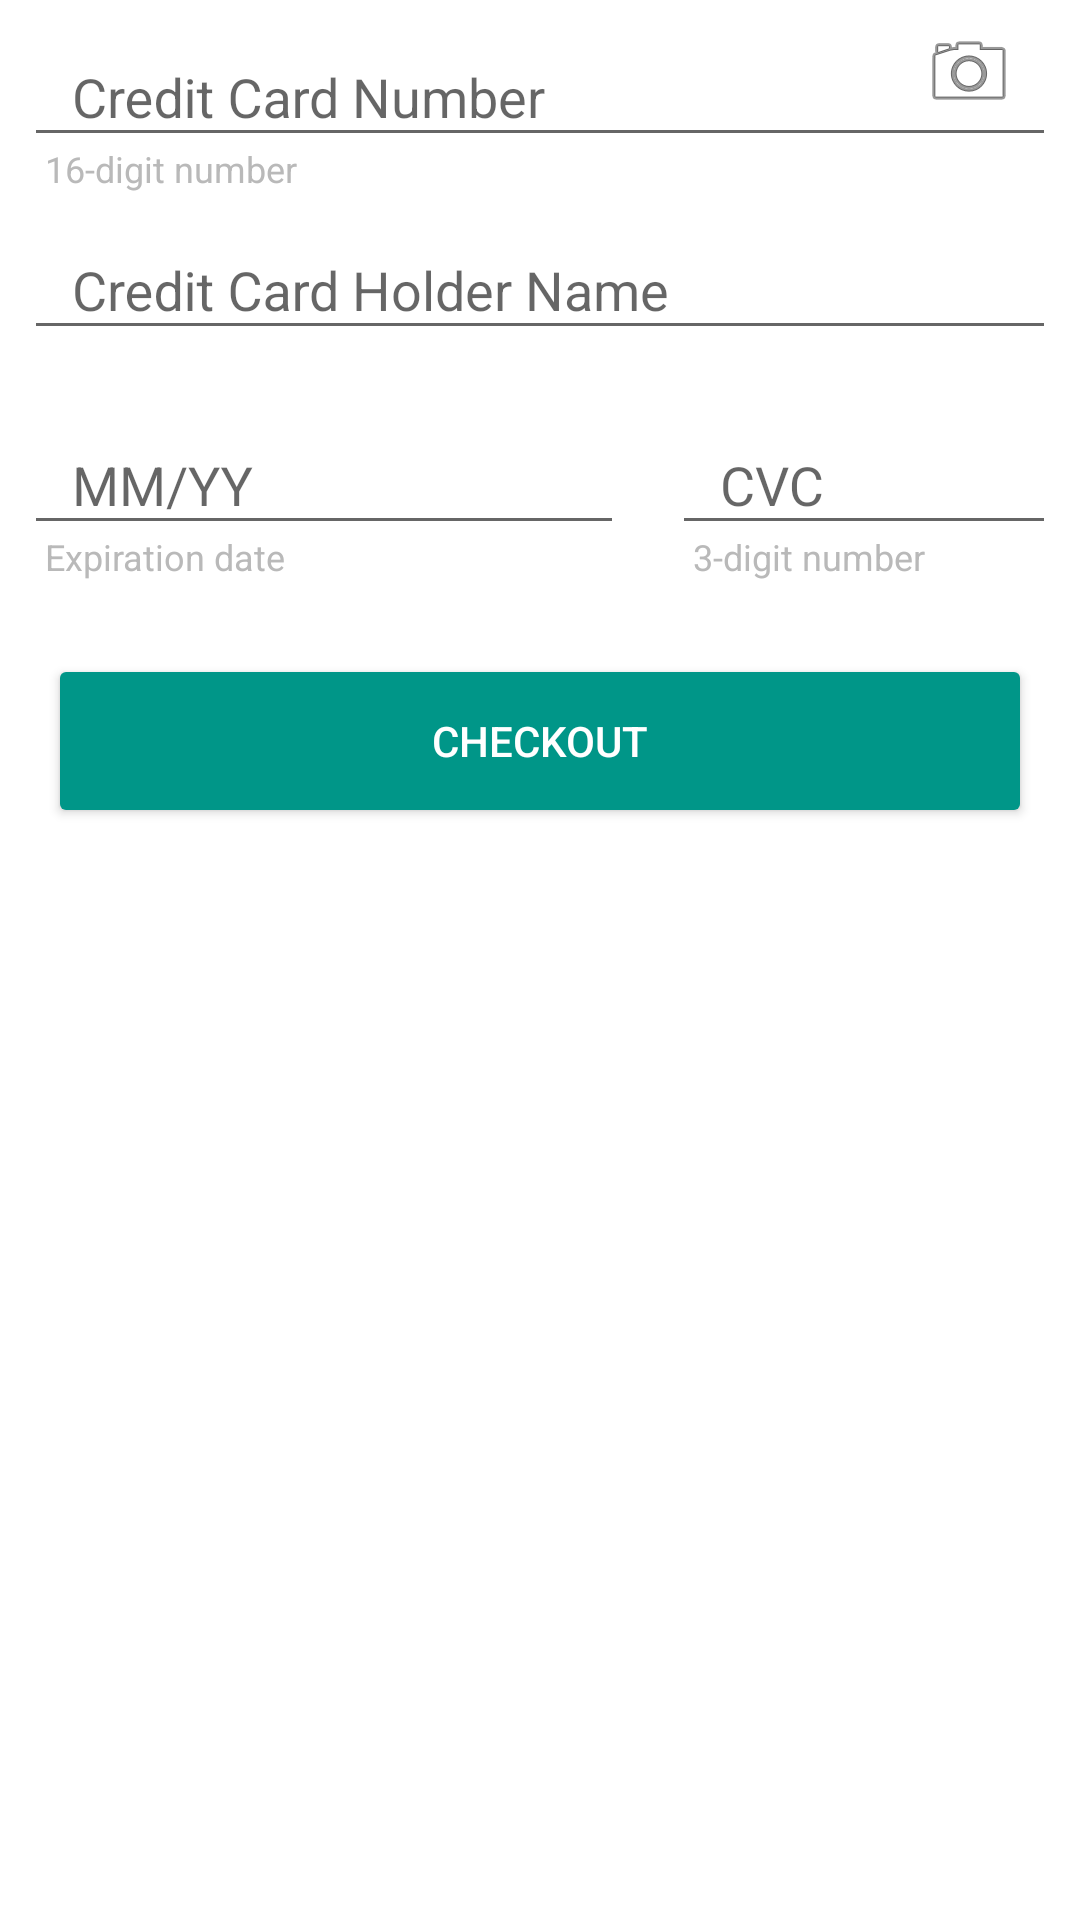

Icons on this 1080x1920 Android screen, each with the point to tap as point (x, y):
camera: point (969, 70)
